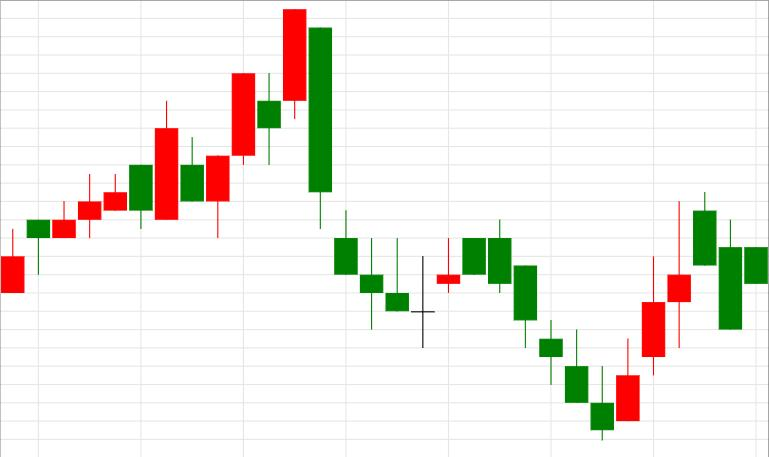inverse_hammer_rise: (463, 218, 614, 440)
three_white_soldiers_rise: (462, 201, 691, 440)
